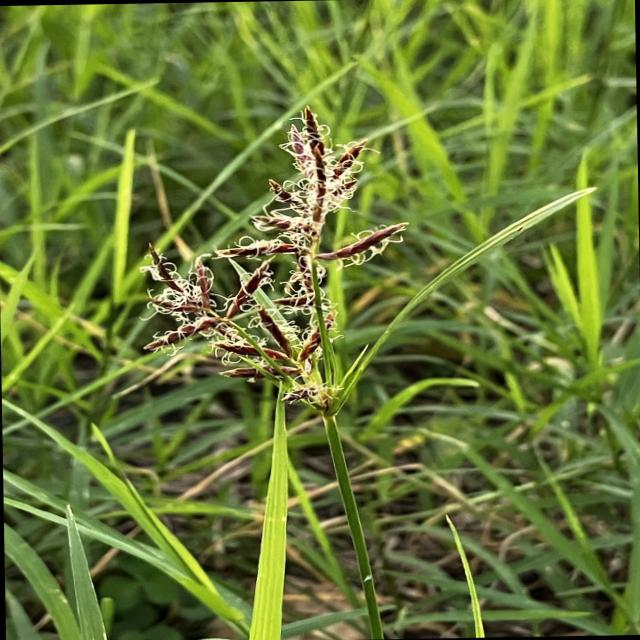cyperus: (120, 102, 416, 434)
